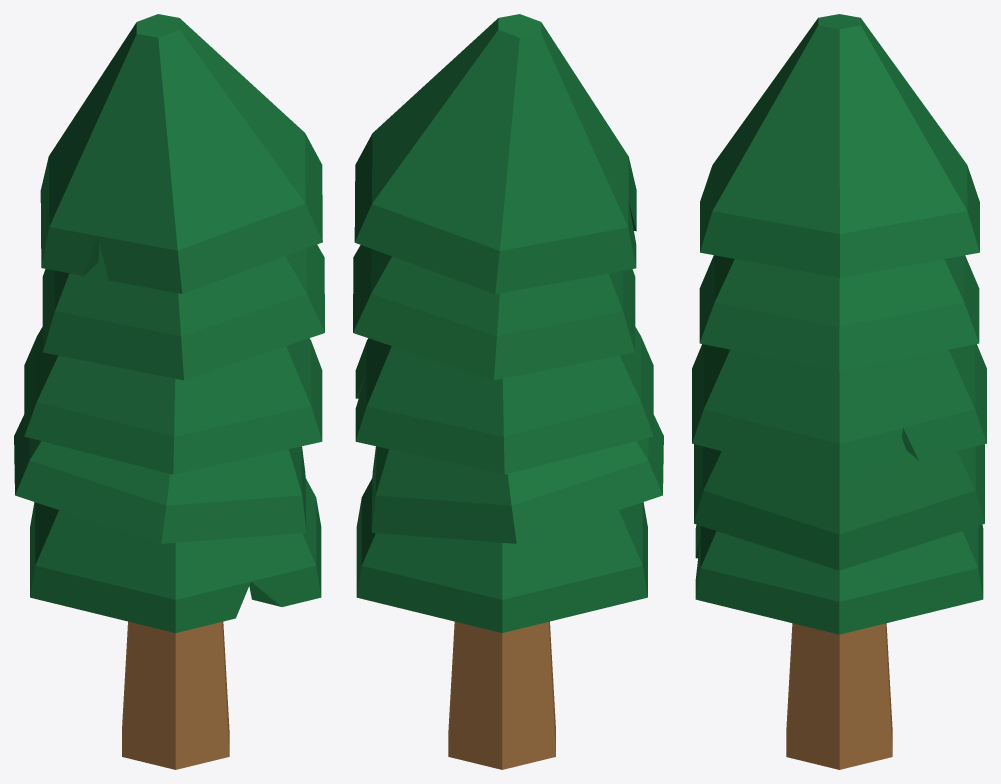
Rendered from tree2.glb.
The picture shows the model from 3 angles, left to right: view 1: azimuth 30°, elevation 25°; view 2: azimuth 150°, elevation 25°; view 3: azimuth 270°, elevation 25°; orthographic projection.
Visible parts, largest first — view 1: Tree2; view 2: Tree2; view 3: Tree2.
Part boxes in pixels (x1,y1,x2,y2): Tree2: (14, 14, 324, 769); Tree2: (353, 14, 663, 769); Tree2: (692, 14, 986, 769).
Bounding box in the file's own units: 3.29 × 7.35 × 2.74.
